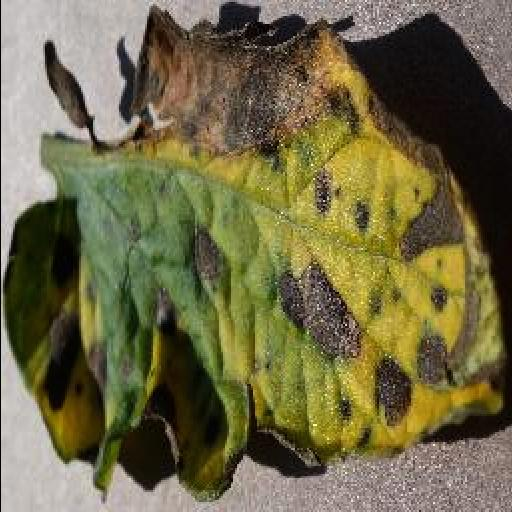disease_tomato: (2, 8, 500, 498)
